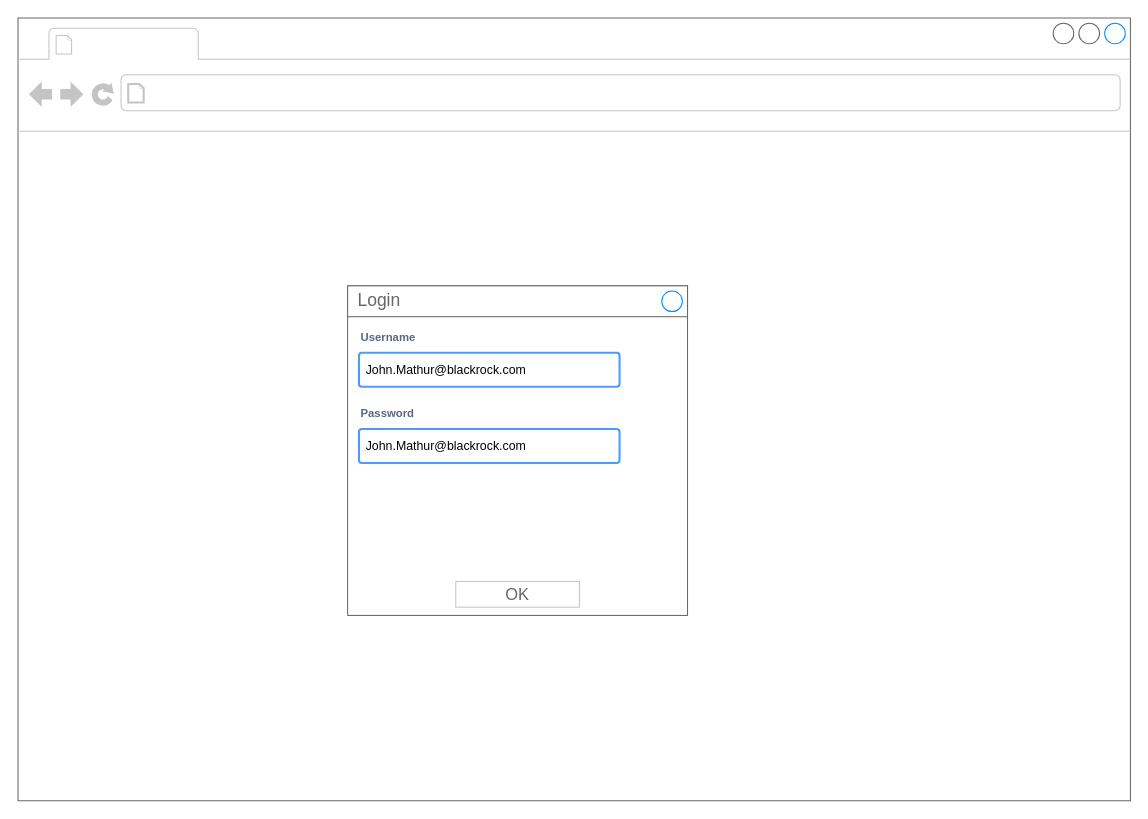
The diagram is 1148 pixels wide and 819 high, and some of its shapes have lost their labels. The centre of each missing label's shape, as x and y in pixels:
ESG Login: [136,43]
https://esg.blackrock.com: [280,93]
